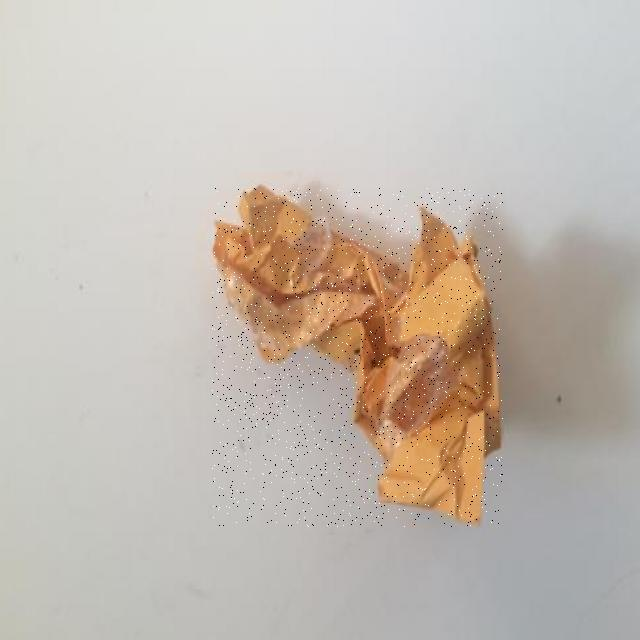paper: (213, 188, 503, 527)
